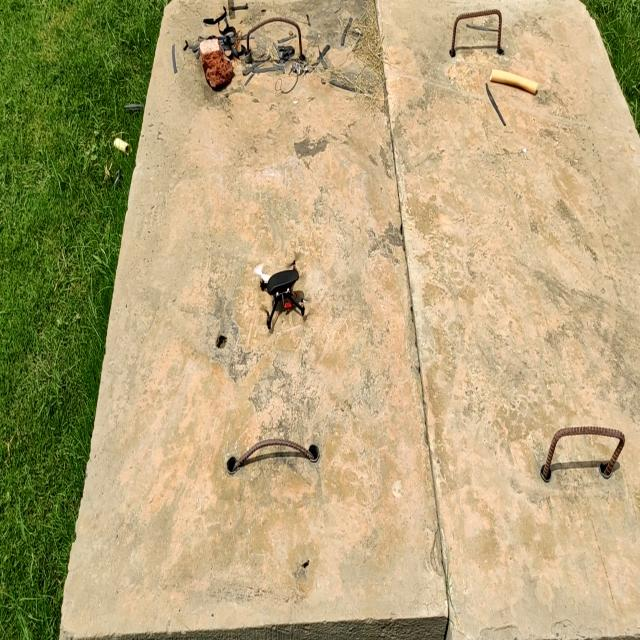drone: (241, 250, 321, 342)
